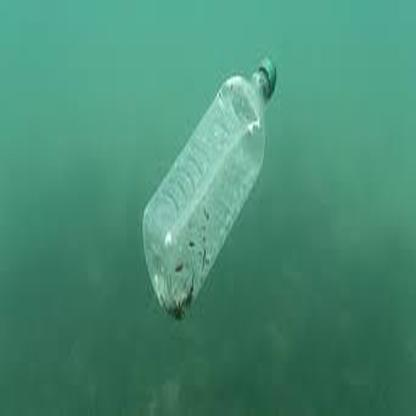plastic bottle: (141, 56, 278, 315)
